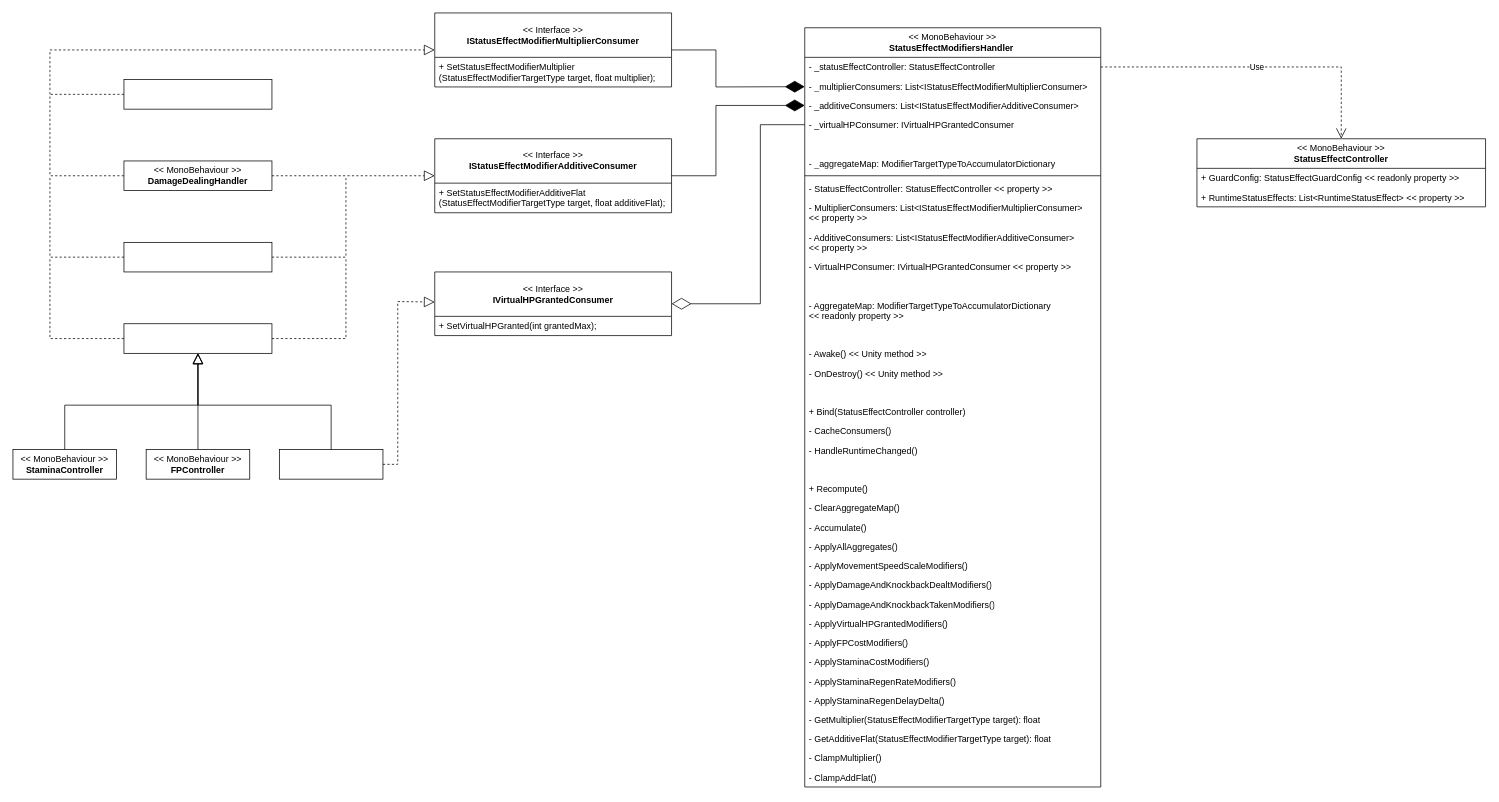
Image size: 1499x802. Some labels were removed from this diagram. Here are the shapes that lost their labels. From the top down, the centre of each, then its label:
At (x=197, y=94): "<< MonoBehaviour >> MovementHandler".
At (x=197, y=257): "<< MonoBehaviour >> KnockbackReceivingHandler".
At (x=197, y=338): "<< MonoBehaviour >> CharacterResourcePoolController".
At (x=331, y=464): "<< MonoBehaviour >> HPController".
